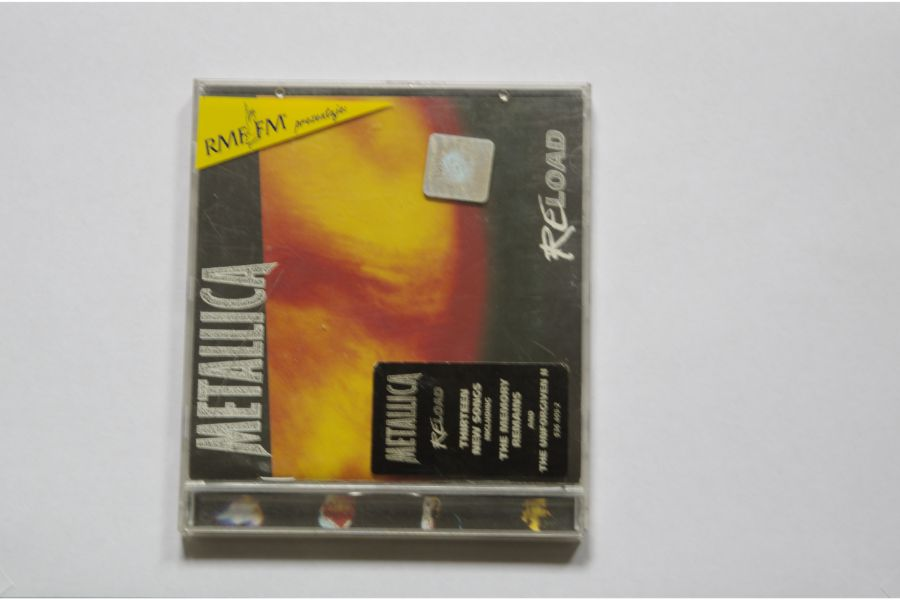album: (177, 76, 591, 542)
